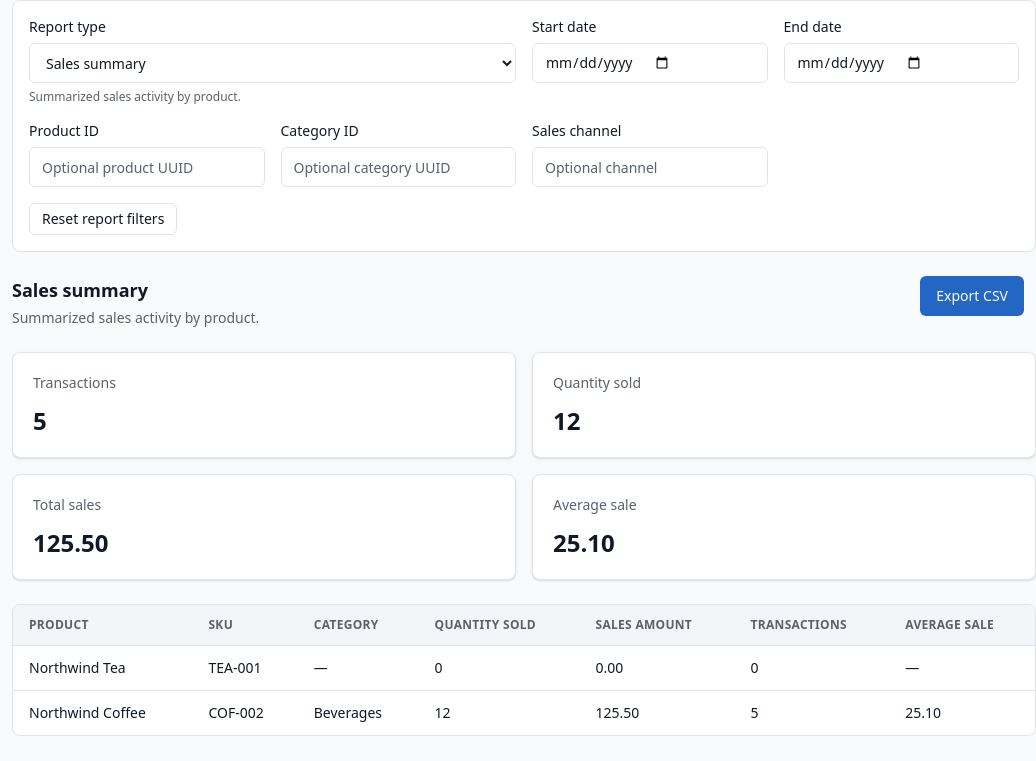
ReportsView › validates a required demand forecast run and an invalid date range before loading
This screenshot has width=1036, height=761.
Expected: the table named "Sales summary" is shown, 13,605 -> 1035,735
Select "Demand forecast" in the dropdown labelled "Report type". click: x=272, y=63
box: 29,43 -> 516,83
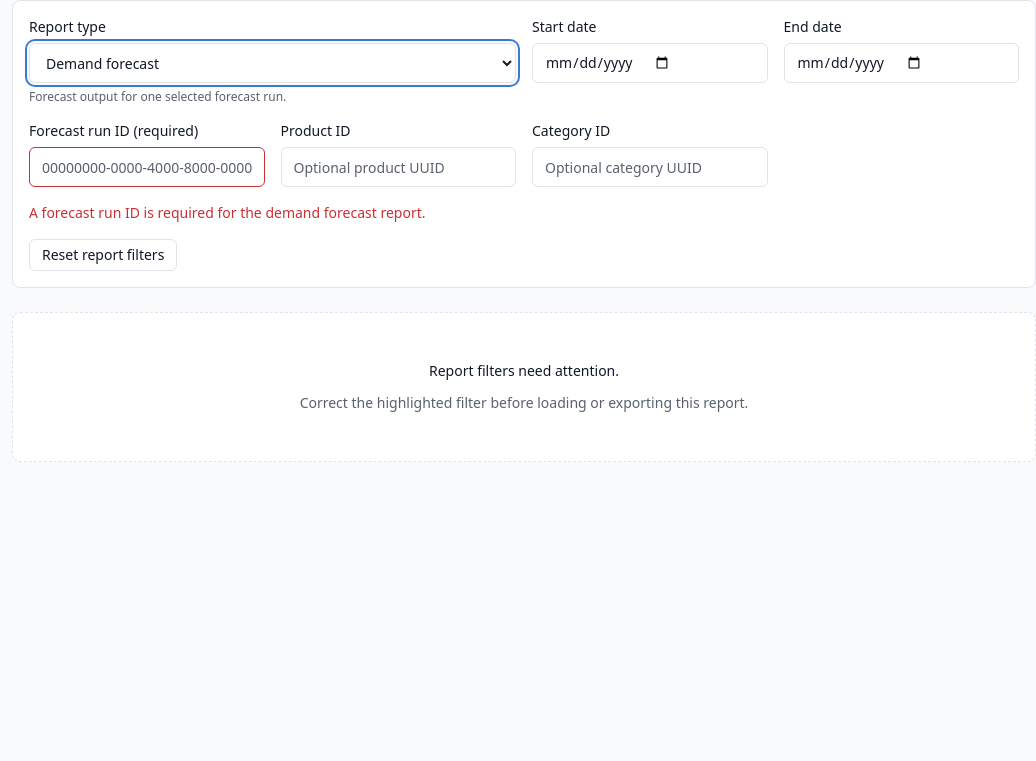
Expected: the text "A forecast run ID is required for the demand forecast report." is shown, 29,203 -> 426,222
Type "aaaaaaaa-aaaa-4aaa-8aaa-aaaaaaaaaaaa" into the field labelled "Forecast run ID (required)". click: x=147, y=167
box: 29,147 -> 264,187
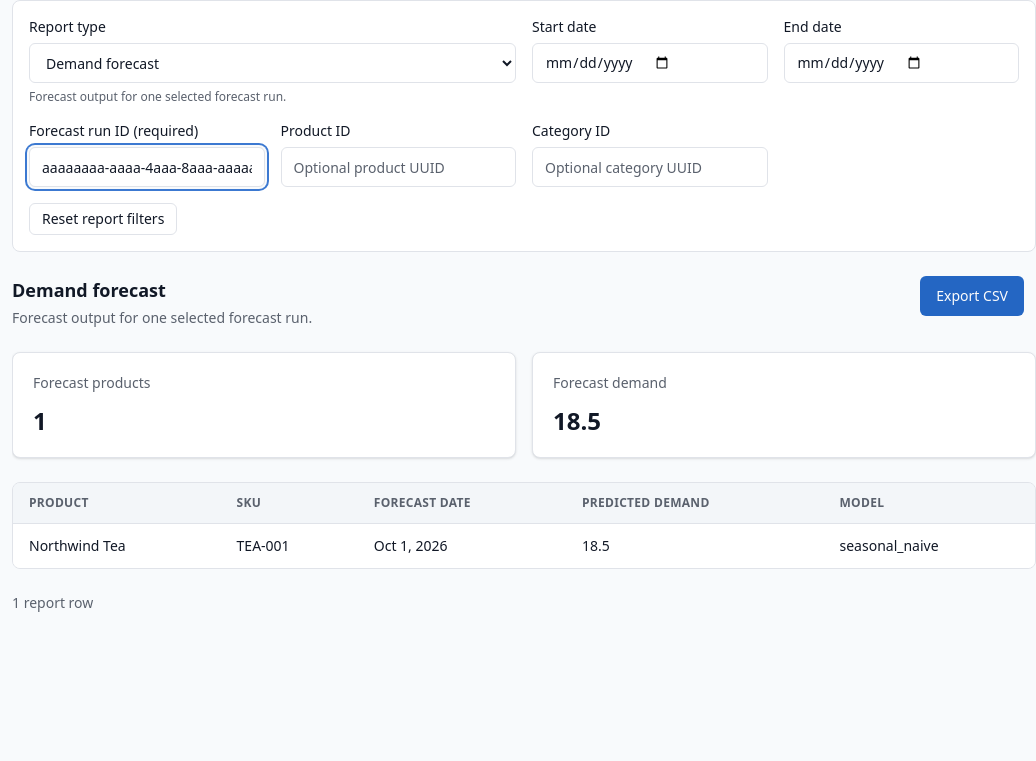
Expected: the table named "Demand forecast" is shown, 13,483 -> 1035,568
Type "2026-10-10" into the date field labelled "Start date". click: x=650, y=63
box: 532,43 -> 768,83
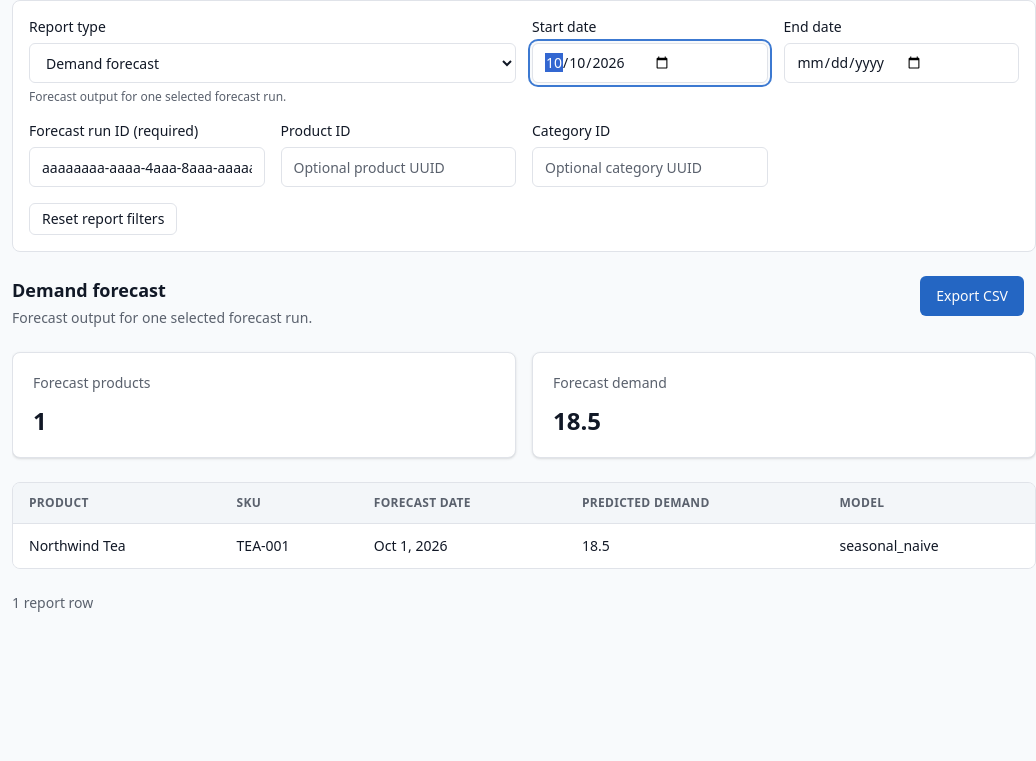
Type "2026-10-01" into the date field labelled "End date". click: x=901, y=63
box: 784,43 -> 1019,83
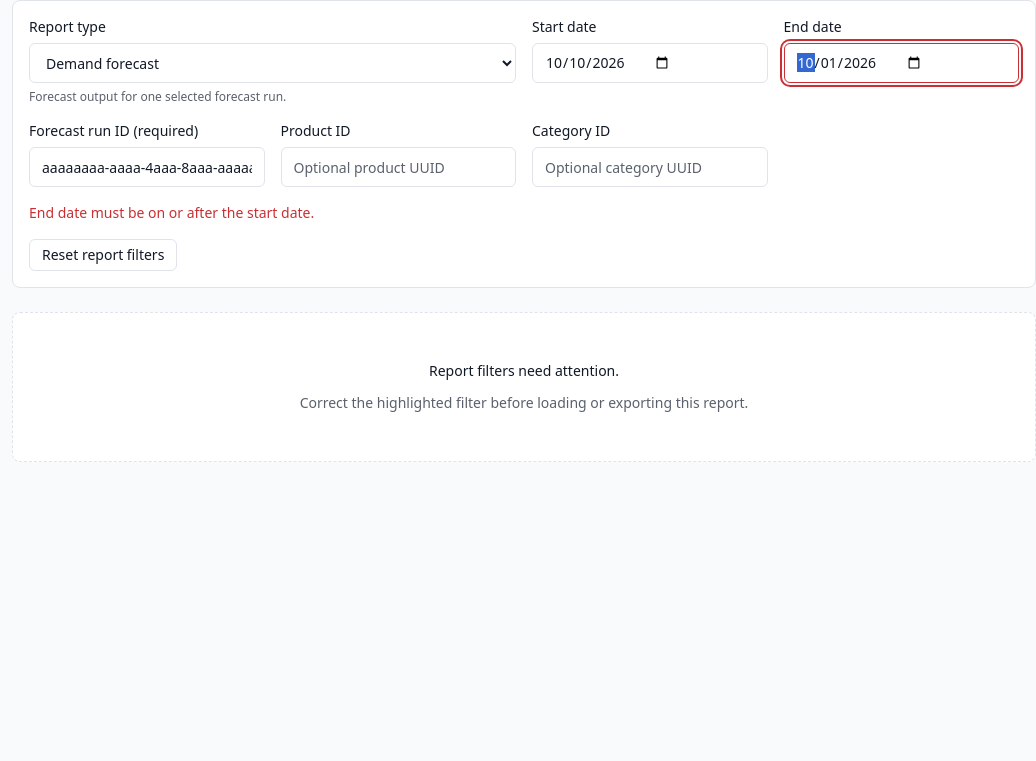
Expected: the text "End date must be on or after the start date." is shown, 29,203 -> 314,222
